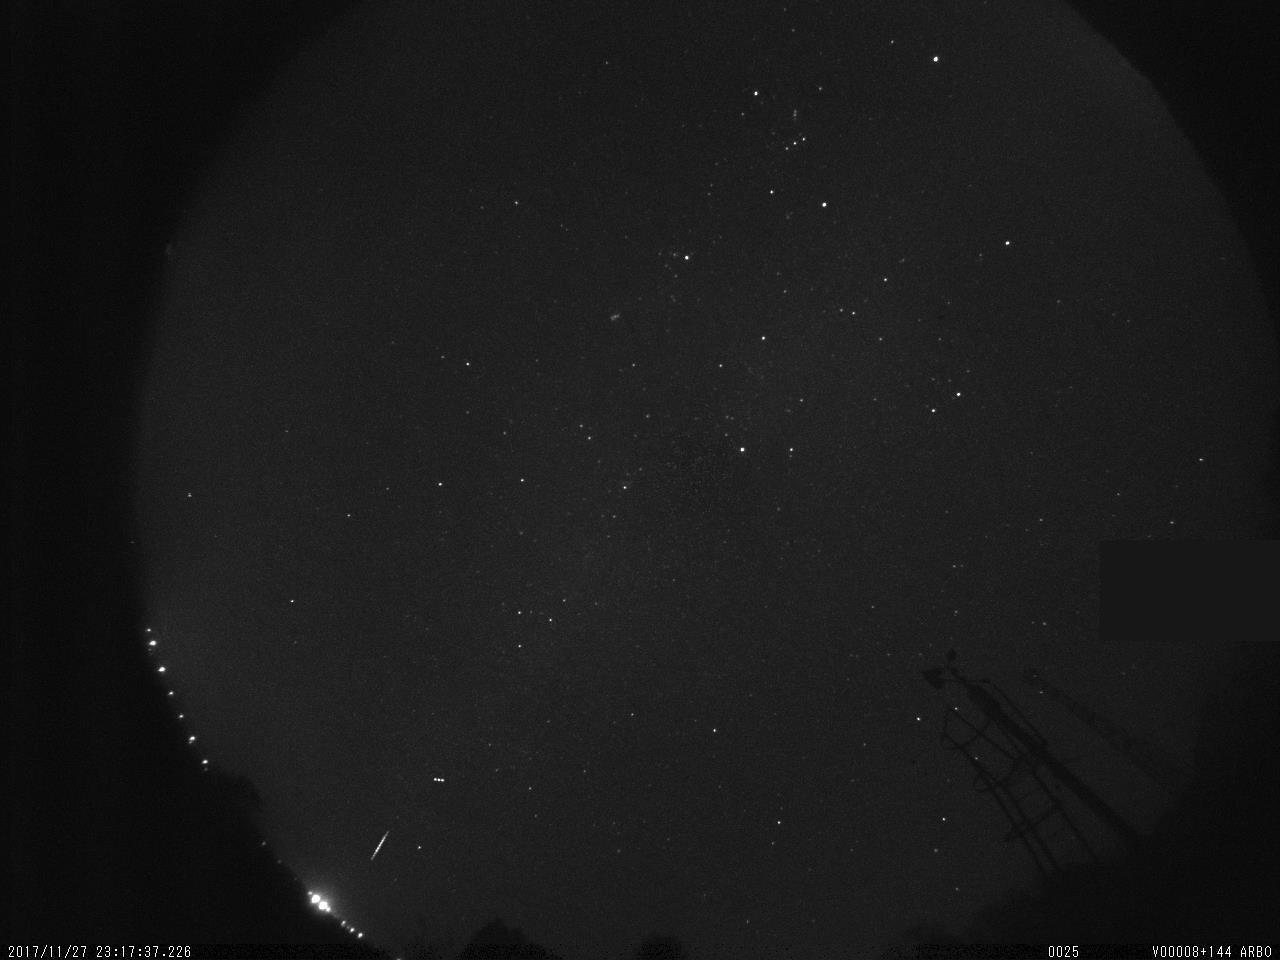Meteor: (366, 826, 396, 863)
